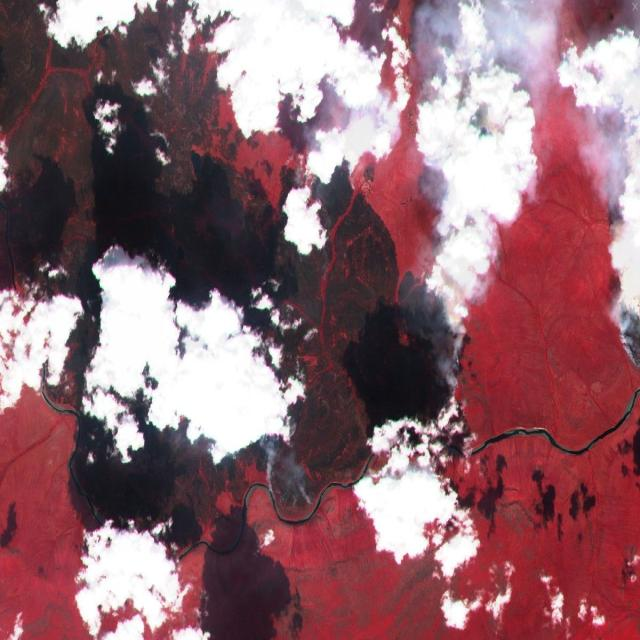fire: (405, 257, 483, 406), (260, 434, 331, 520), (278, 137, 362, 193), (606, 265, 640, 384)
